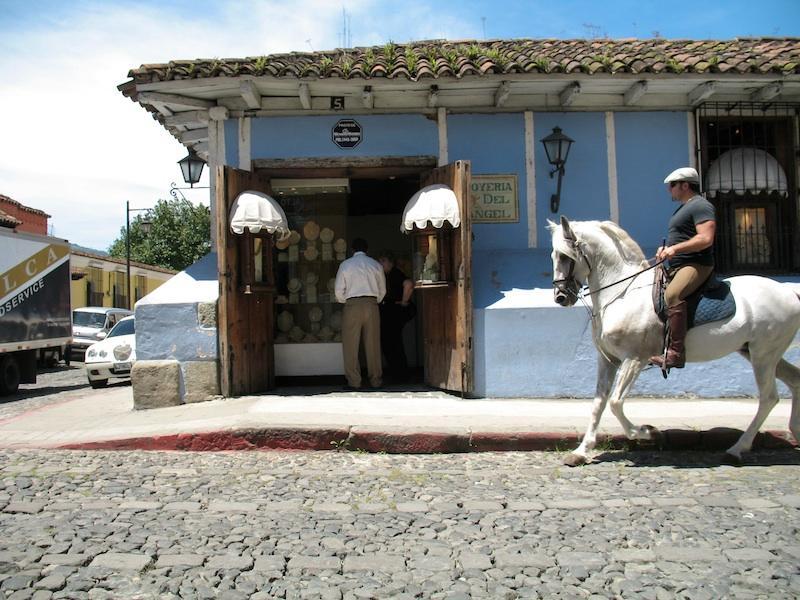person: (650, 165, 720, 375)
